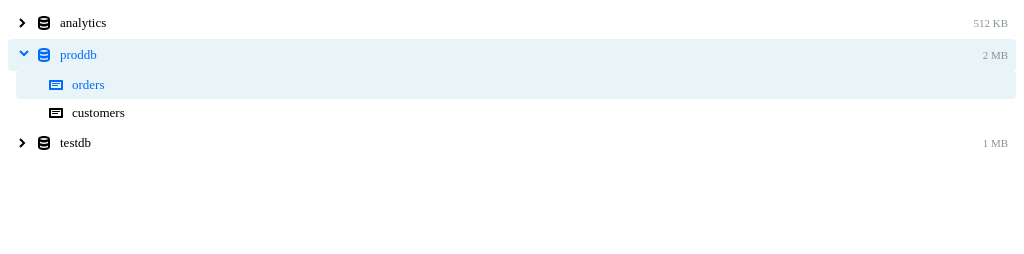
Scenario: CollectionTree › selection › shows collections when database is expanded and has selectedCollection
Click the text "testdb" at (76, 142), box [60,135,91,150]
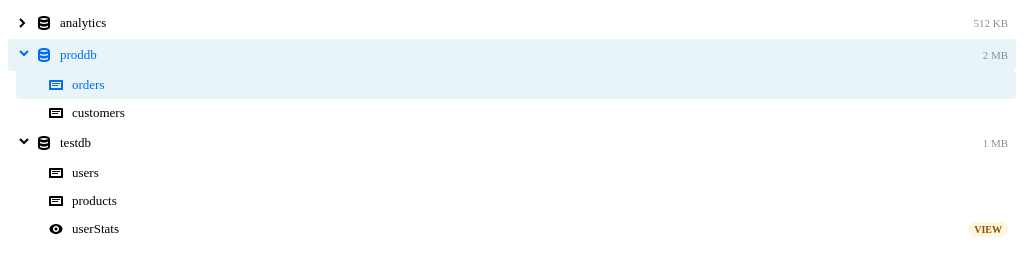
Check: the text "users" is shown, box [72,165,99,180]
Check: the text "products" is shown, box [72,193,117,208]
